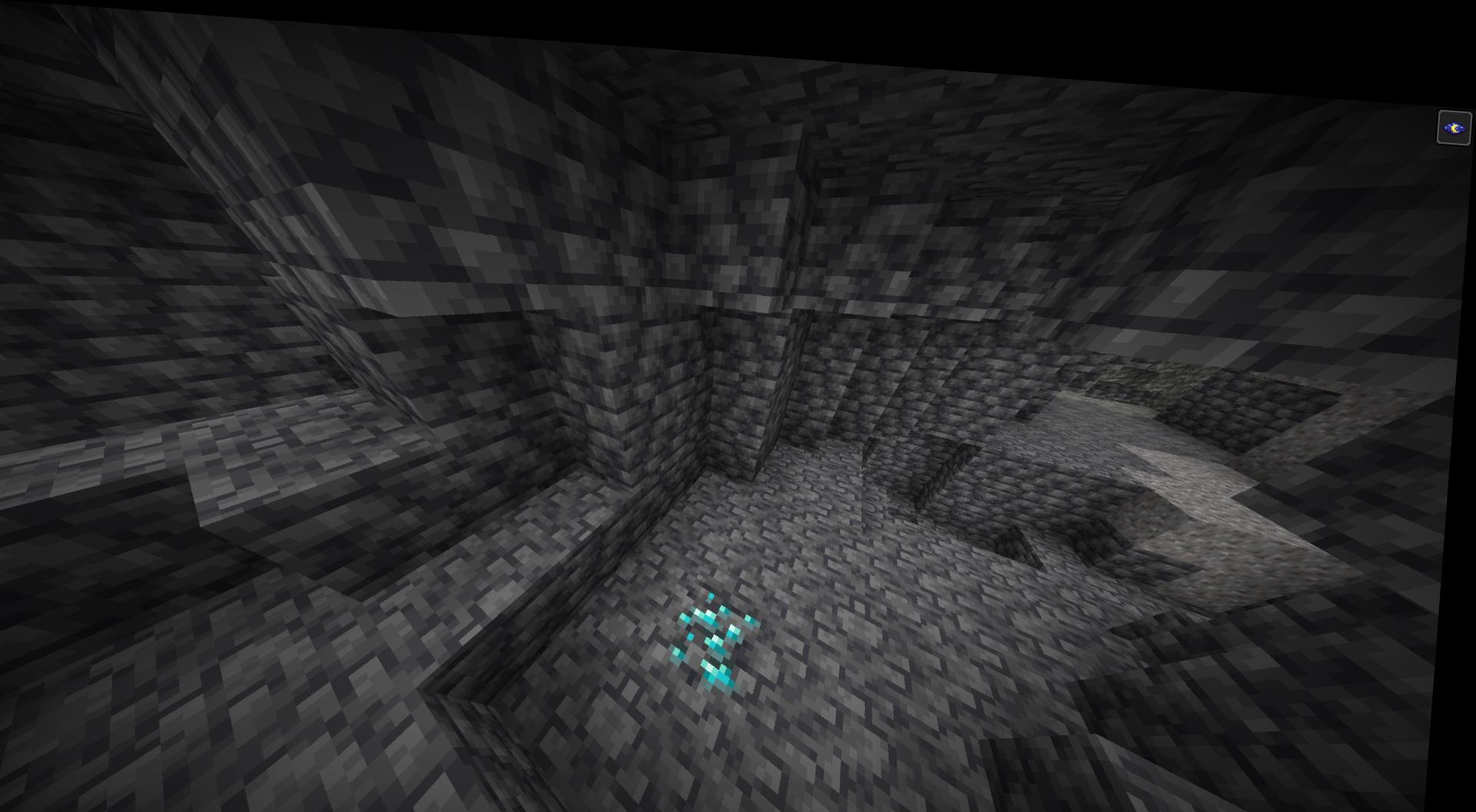diamond ore: (672, 578, 768, 683)
